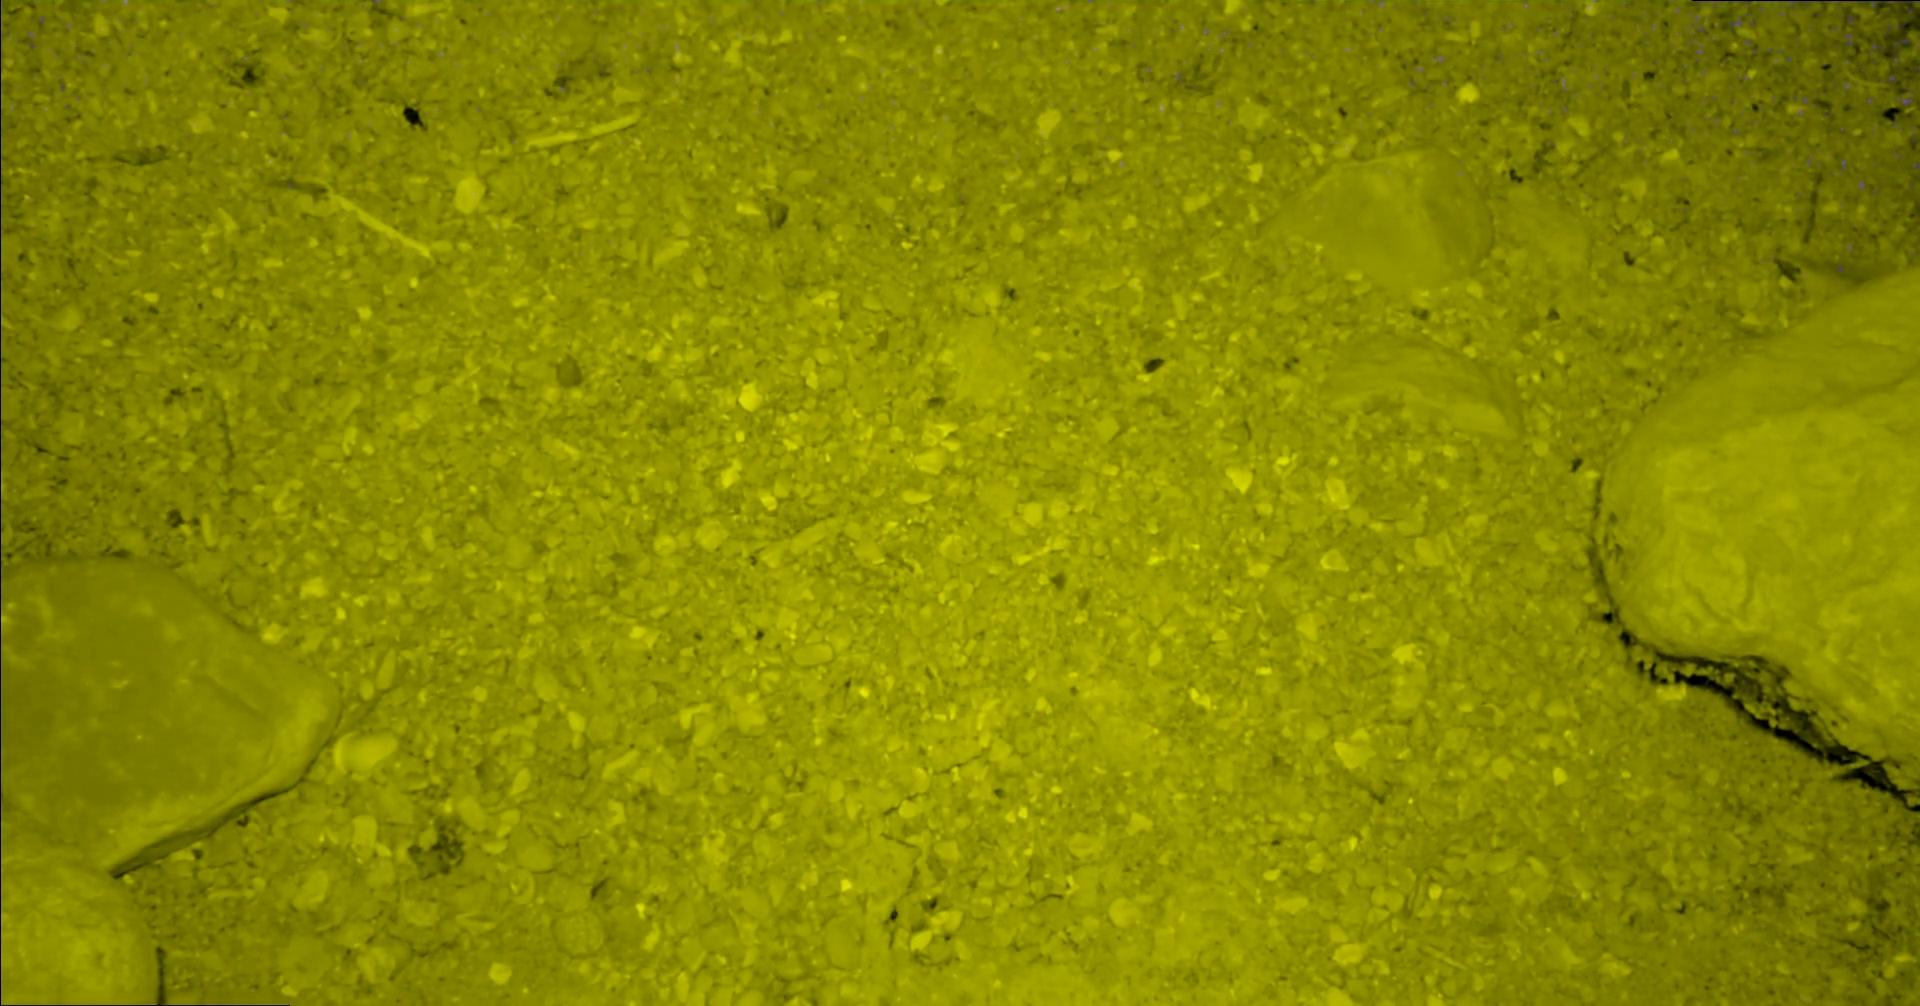ant: (1691, 0, 1919, 8)
